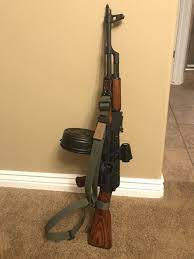gun: (60, 3, 134, 250)
